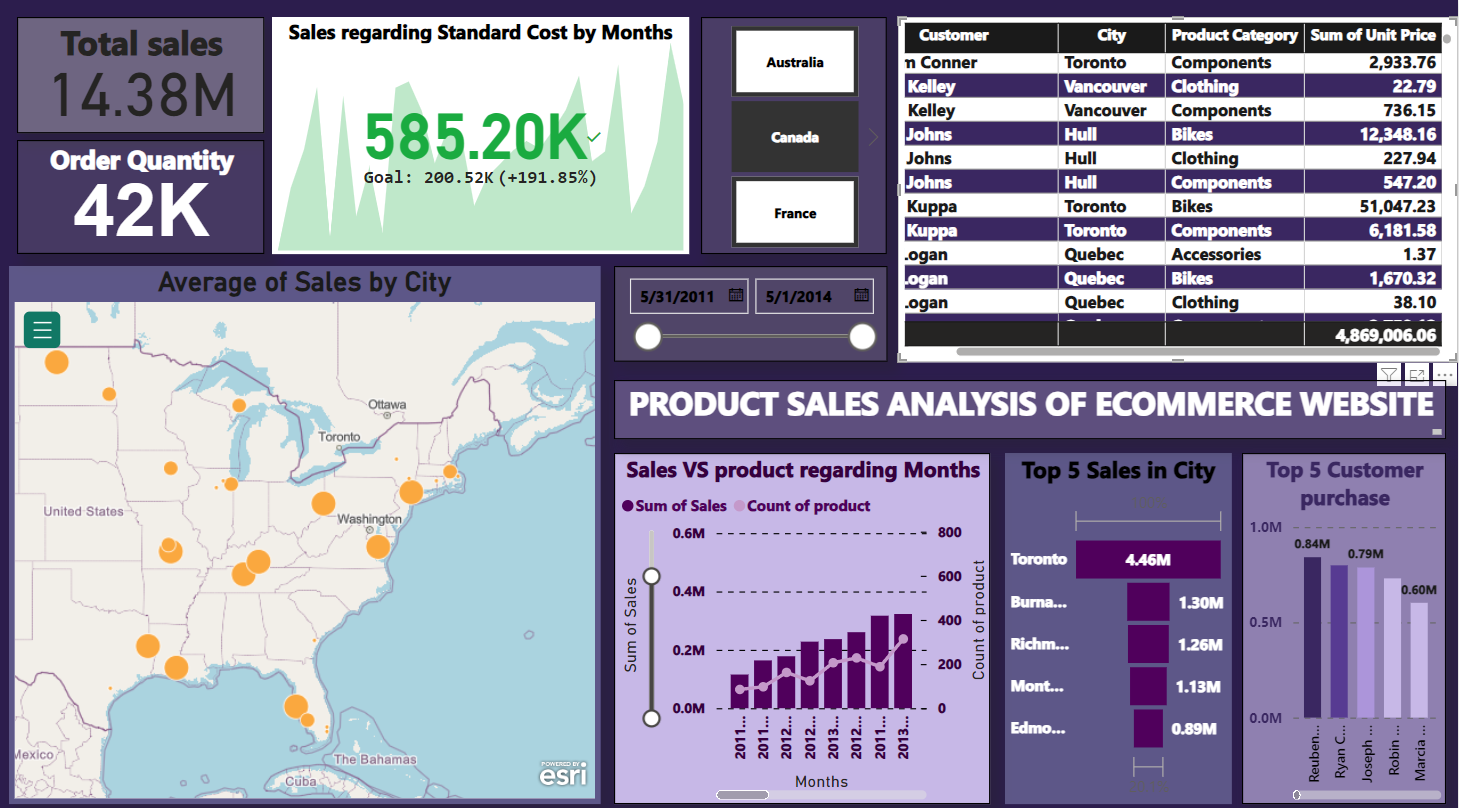

The dashboard page shown, as its layout file describes it:
{"tool":"powerbi","page":{"name":"Page 1","canvas":[1280,720],"ordinal":0},"visuals":[{"type":"card","title":"Total sales","fields":{"Values":["DATE.Sum sales"]},"box":[15.8,14.9,216.9,101.9],"z":0},{"type":"card","title":"Order Quantity","fields":{"Values":["Product sales.OrderQuantity"]},"box":[15.8,122.9,216.9,100.1],"z":1000},{"type":"kpi","title":"Sales regarding Standard Cost by Months","fields":{"Indicator":["Product sales.Sales"],"TrendLine":["DATE.Month over month"],"Goal":["Product sales.StandardCost"]},"box":[239.7,14.9,366.1,208.1],"z":2000},{"type":"esriVisual","fields":{"Location":["Product sales.City"],"Size":["Product sales.Sales"]},"box":[8.8,233.6,518.9,471.5],"z":3000},{"type":"slicer","fields":{"Values":["Product sales.Country"]},"box":[615.5,14.9,163.3,208.1],"z":4000},{"type":"lineStackedColumnComboChart","title":"Sales VS product regarding Months","fields":{"Y":["Product sales.Sales"],"Category":["DATE.Month over month"],"Y2":["Product sales.product"]},"box":[539.1,397.8,330.1,308.2],"z":5000},{"type":"slicer","fields":{"Values":["Product sales.OrderDate"]},"box":[539.1,233.6,239.7,84.3],"z":6000},{"type":"tableEx","fields":{"Values":["Product sales.Customer","Product sales.City","Product sales.productcategory","Product sales.UnitPrice"]},"box":[789.4,14.9,490.8,302.9],"z":7000},{"type":"funnel","title":"Top 5 Sales in City","fields":{"Category":["Product sales.City"],"Y":["Product sales.Sales"]},"box":[882.5,397.5,199.2,308.1],"z":7001},{"type":"columnChart","title":"Top 5 Customer purchase","fields":{"Y":["Product sales.Sales"],"Category":["Product sales.Customer"]},"box":[1090.5,397.5,178.8,308.1],"z":7002},{"type":"textbox","title":"PRODUCT SALES ANALYSIS OF ECOMMERCE WEBSITE","box":[539.4,333.4,729.9,51.5],"z":7003}]}

Visuals, with their boxes in screenshot pixels (x1, y1, x2, y2), scaled from the page's 1280x720 canvas onto the 1459x808 screenshot:
"Total sales" card: (18,17,265,131)
"Order Quantity" card: (18,138,265,250)
"Sales regarding Standard Cost by Months" kpi: (273,17,691,250)
esriVisual - Product sales.City x Product sales.Sales: (10,262,601,791)
slicer - Product sales.Country: (702,17,888,250)
"Sales VS product regarding Months" lineStackedColumnComboChart: (614,446,991,792)
slicer - Product sales.OrderDate: (614,262,888,357)
tableEx - Product sales.Customer x Product sales.City: (900,17,1458,357)
"Top 5 Sales in City" funnel: (1006,446,1233,792)
"Top 5 Customer purchase" columnChart: (1243,446,1447,792)
"PRODUCT SALES ANALYSIS OF ECOMMERCE WEBSITE" textbox: (615,374,1447,432)
